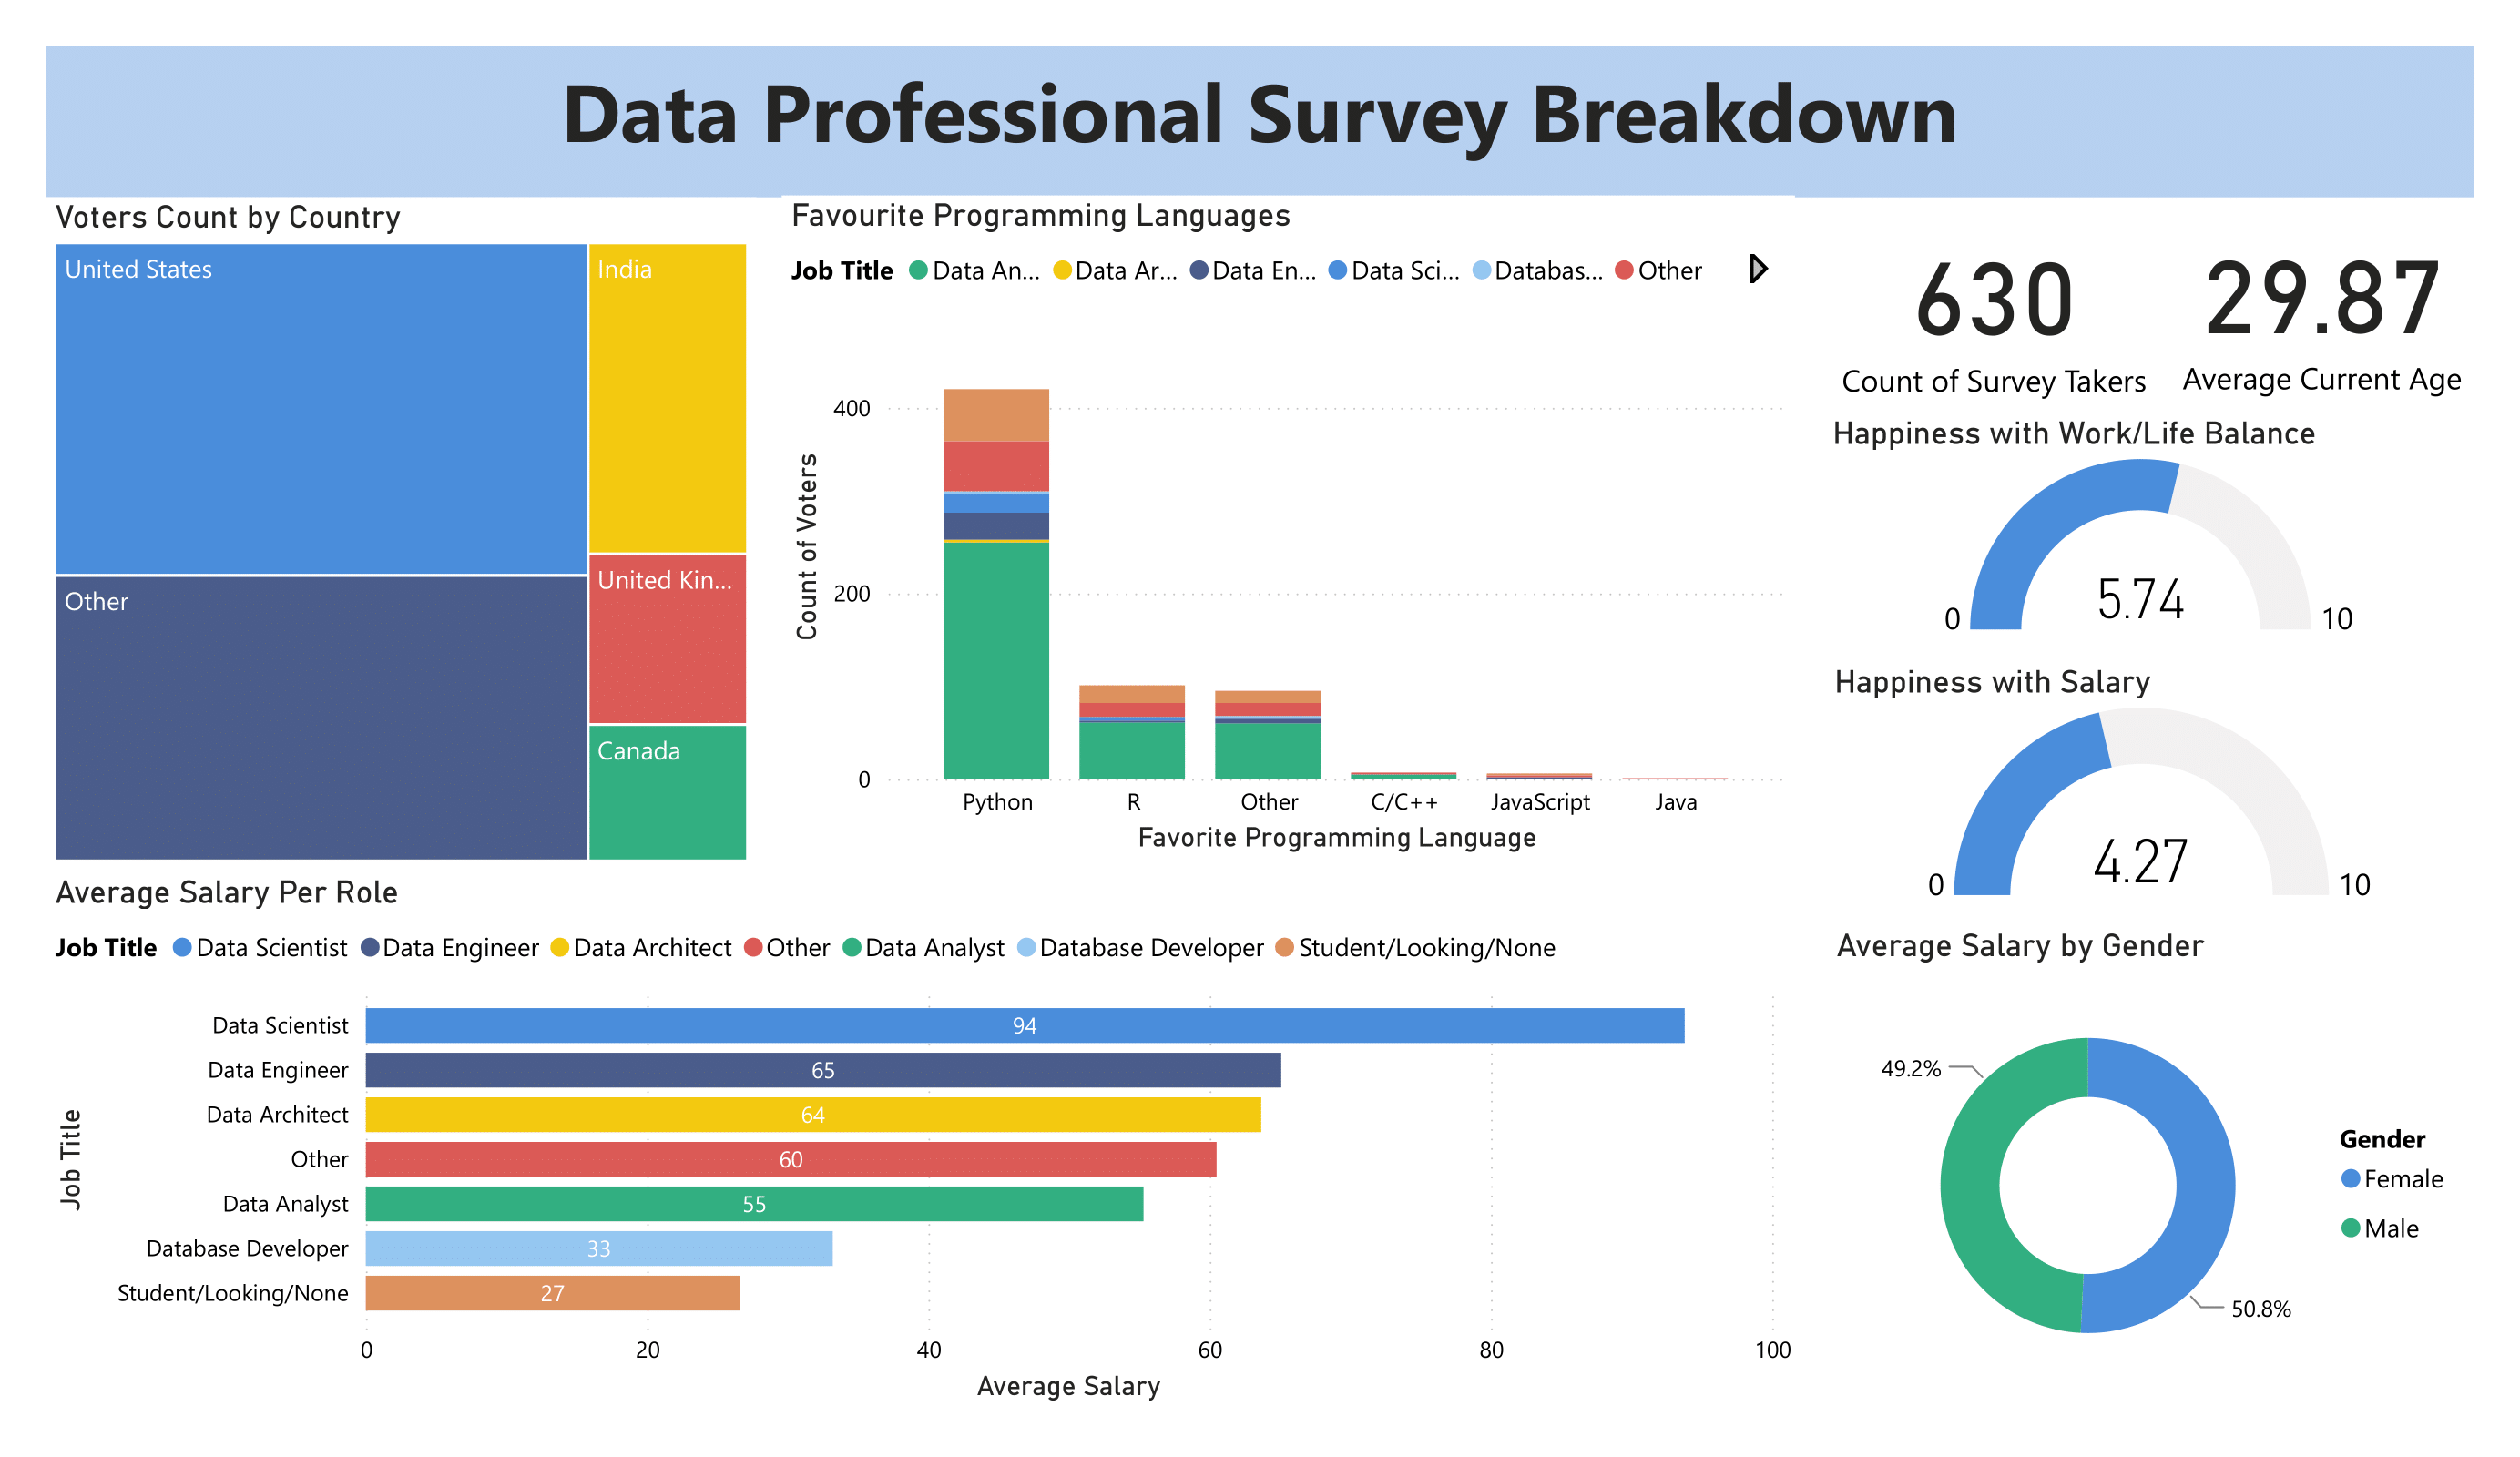

The page's visual inventory and layout, read from the dashboard file:
{"tool":"powerbi","page":{"name":"Page 1","canvas":[1280,720],"ordinal":0},"visuals":[{"type":"textbox","box":[0,0,1280.3,79.6],"z":0},{"type":"card","fields":{"Values":["Count(Data Professional Survey.Unique ID)"]},"box":[937.3,81.2,179.9,112.4],"z":1000},{"type":"card","fields":{"Values":["Avg(Data Professional Survey.Q10 - Current Age)"]},"box":[1119.6,81.2,160.6,111.2],"z":2000},{"type":"barChart","title":"Average Salary Per Role","fields":{"Category":["Data Professional Survey.Q1 - Which Title Best Fits your Current Role?.1"],"Y":["Avg(Data Professional Survey.Average Salary)"],"Series":["Data Professional Survey.Q1 - Which Title Best Fits your Current Role?.1"]},"box":[0,435.9,924.5,283.5],"z":3000},{"type":"columnChart","title":"Favourite Programming Languages","fields":{"Category":["Data Professional Survey.Q5 - Favorite Programming Language.1"],"Y":["Count(Data Professional Survey.Unique ID)"],"Series":["Data Professional Survey.Q1 - Which Title Best Fits your Current Role?.1"]},"box":[388.4,78.7,533.3,351.5],"z":4000},{"type":"treemap","fields":{"Group":["Data Professional Survey.Q11 - Which Country do you live in?.1"],"Values":["CountNonNull(Data Professional Survey.Q11 - Which Country do you live in?.1)"]},"box":[0,79.9,375.2,354.7],"z":5000},{"type":"gauge","title":"Happiness with Work/Life Balance","fields":{"Y":["Avg(Data Professional Survey.Q6 - How Happy are you in your Current Position with the following? (Work/Life Balance))"],"MinValue":["Min(Data Professional Survey.Q6 - How Happy are you in your Current Position with the following? (Work/Life Balance))1"],"MaxValue":["Max(Data Professional Survey.Q6 - How Happy are you in your Current Position with the following? (Work/Life Balance))2"]},"box":[936.8,193.6,343.5,124.2],"z":6000},{"type":"gauge","title":"Happiness with Salary","fields":{"Y":["Avg(Data Professional Survey.Q6 - How Happy are you in your Current Position with the following? (Salary))"],"MinValue":["Min(Data Professional Survey.Q6 - How Happy are you in your Current Position with the following? (Salary))"],"MaxValue":["Max(Data Professional Survey.Q6 - How Happy are you in your Current Position with the following? (Salary))1"]},"box":[937.8,324.7,342.2,133.6],"z":7000},{"type":"donutChart","title":"Average Salary by Gender","fields":{"Category":["Data Professional Survey.Q9 - Male/Female?"],"Y":["Avg(Data Professional Survey.Average Salary)"]},"box":[939.3,464.1,341,255.3],"z":8000}]}

Visuals, with their boxes in screenshot pixels (x1, y1, x2, y2):
textbox: select_region(46, 46, 2474, 197)
card - Count(Data Professional Survey.Unique ID): select_region(1824, 199, 2166, 413)
card - Avg(Data Professional Survey.Q10 - Current Age): select_region(2170, 199, 2474, 411)
"Average Salary Per Role" barChart: select_region(46, 872, 1800, 1411)
"Favourite Programming Languages" columnChart: select_region(782, 195, 1794, 861)
treemap - Data Professional Survey.Q11 - Which Country do you live in?.1 x CountNonNull(Data Professional Survey.Q11 - Which Country do you live in?.1): select_region(46, 197, 758, 870)
"Happiness with Work/Life Balance" gauge: select_region(1823, 413, 2474, 648)
"Happiness with Salary" gauge: select_region(1825, 661, 2474, 915)
"Average Salary by Gender" donutChart: select_region(1828, 926, 2474, 1411)
